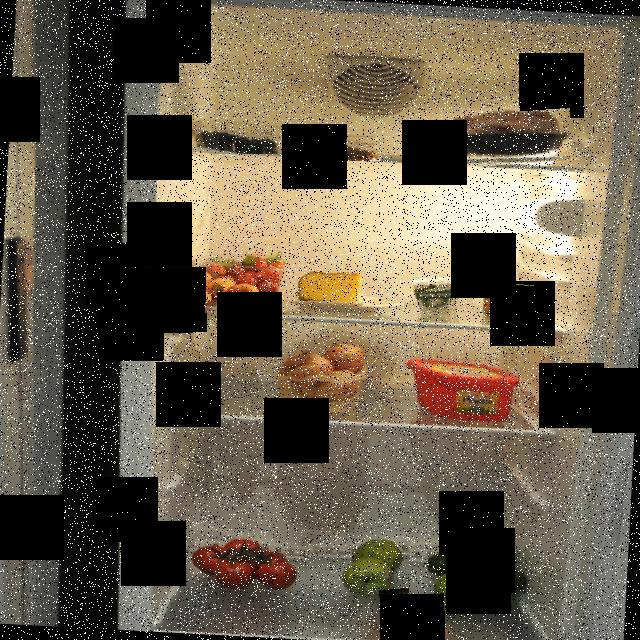apple: (340, 532, 410, 602), (433, 568, 495, 612)
blueberries: (191, 124, 279, 154)
butter: (404, 352, 520, 422)
carrot: (162, 272, 281, 318)
cheese: (296, 270, 366, 310)
chicken: (430, 108, 570, 170)
corn: (480, 280, 534, 324)
goat_cheese: (406, 276, 476, 316)
lime: (472, 550, 530, 602), (428, 552, 464, 580)
onion: (279, 342, 366, 409)
shrimp: (289, 134, 382, 161)
strawberries: (204, 250, 284, 300)
tomato: (186, 532, 308, 590)
